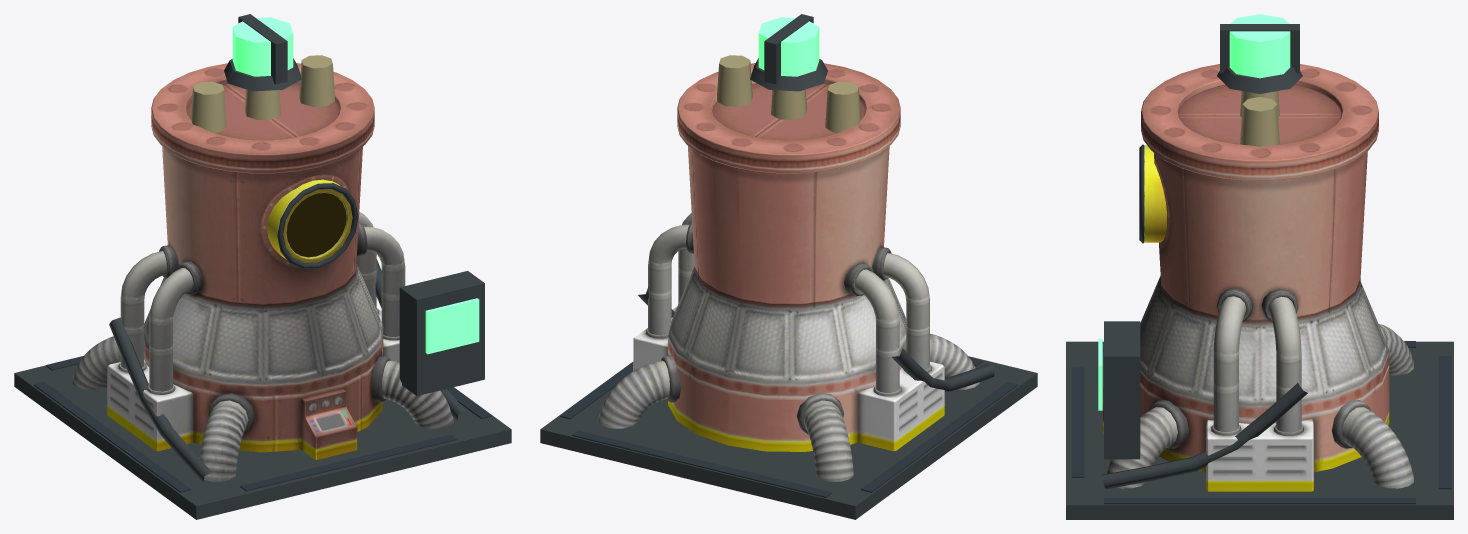
The model's file is r03_pecas.glb.
3 views of the same model, side by side, from view 1: azimuth 30°, elevation 25°; view 2: azimuth 150°, elevation 25°; view 3: azimuth 270°, elevation 25° (orthographic). The views are drawn at different scales.
Visible parts, largest first — view 1: Fornalha_normal_11, Pedestal_normal, Painel_normal, Cabo_normal (×2), Fornalha_normal_12, Tela_normal, Lente_sinaleiro, Faixa_lateral_normal_-1, Isolador_normal_2, Faixa_normal, Isolador_normal_0, Escotilha_luz_normal (+3 smaller); view 2: Fornalha_normal_11, Pedestal_normal, Lente_sinaleiro, Faixa_traseira_normal, Faixa_lateral_normal_-1, Isolador_normal_2, Isolador_normal_0, Cabo_normal, Sinaleiro_rotor_normal, Suporte_sinaleiro, Isolador_normal_1, Faixa_lateral_normal_1; view 3: Fornalha_normal_11, Pedestal_normal, Painel_normal, Lente_sinaleiro, Cabo_normal, Faixa_lateral_normal_1, Faixa_traseira_normal, Isolador_normal_2, Faixa_normal, Sinaleiro_rotor_normal, Suporte_sinaleiro, Escotilha_luz_normal.
Boxes of the visible parts, box(x1,y1,x2,y2) form: Fornalha_normal_11: box(72, 63, 453, 481); Pedestal_normal: box(14, 364, 511, 519); Painel_normal: box(399, 271, 484, 395); Cabo_normal (×2): box(109, 259, 465, 482); Fornalha_normal_12: box(286, 193, 346, 257); Tela_normal: box(425, 298, 479, 354); Lente_sinaleiro: box(232, 17, 293, 76); Faixa_lateral_normal_-1: box(34, 381, 190, 492); Isolador_normal_2: box(299, 55, 334, 106); Faixa_normal: box(240, 434, 456, 491); Isolador_normal_0: box(191, 81, 226, 132); Escotilha_luz_normal: box(277, 183, 358, 268); Fornalha_normal_11: box(598, 63, 979, 481); Pedestal_normal: box(540, 356, 1037, 519); Lente_sinaleiro: box(758, 17, 819, 76); Faixa_traseira_normal: box(572, 430, 831, 497); Faixa_lateral_normal_-1: box(861, 381, 1017, 492); Isolador_normal_2: box(717, 55, 752, 106); Isolador_normal_0: box(825, 81, 860, 132); Cabo_normal: box(892, 348, 994, 391); Sinaleiro_rotor_normal: box(764, 14, 813, 84); Suporte_sinaleiro: box(750, 58, 827, 91); Isolador_normal_1: box(771, 89, 806, 120); Faixa_lateral_normal_1: box(560, 362, 633, 419); Fornalha_normal_11: box(1103, 64, 1413, 491); Pedestal_normal: box(1066, 341, 1453, 519); Painel_normal: box(1104, 321, 1140, 459); Lente_sinaleiro: box(1229, 14, 1290, 78); Cabo_normal: box(1102, 383, 1307, 489); Faixa_lateral_normal_1: box(1104, 497, 1415, 504); Faixa_traseira_normal: box(1438, 356, 1451, 489); Isolador_normal_2: box(1240, 97, 1279, 146); Faixa_normal: box(1071, 367, 1084, 477); Sinaleiro_rotor_normal: box(1220, 24, 1299, 73); Suporte_sinaleiro: box(1217, 67, 1302, 93); Escotilha_luz_normal: box(1139, 144, 1144, 243).
Bounding box in the file's own units: 3.6 × 4.42 × 3.6.
6 materials, 2 textured.
